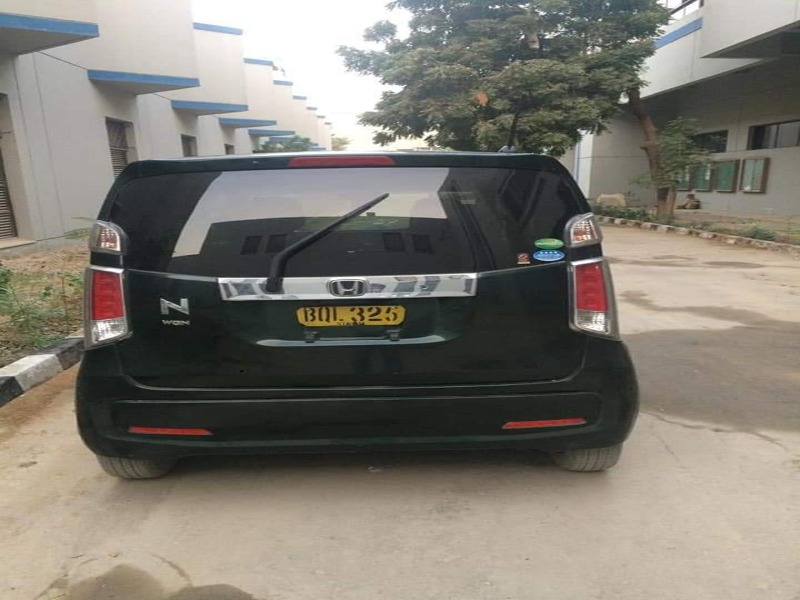License Plate: (290, 298, 409, 332)
